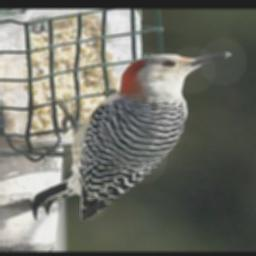Woodpecker: (30, 50, 231, 220)
